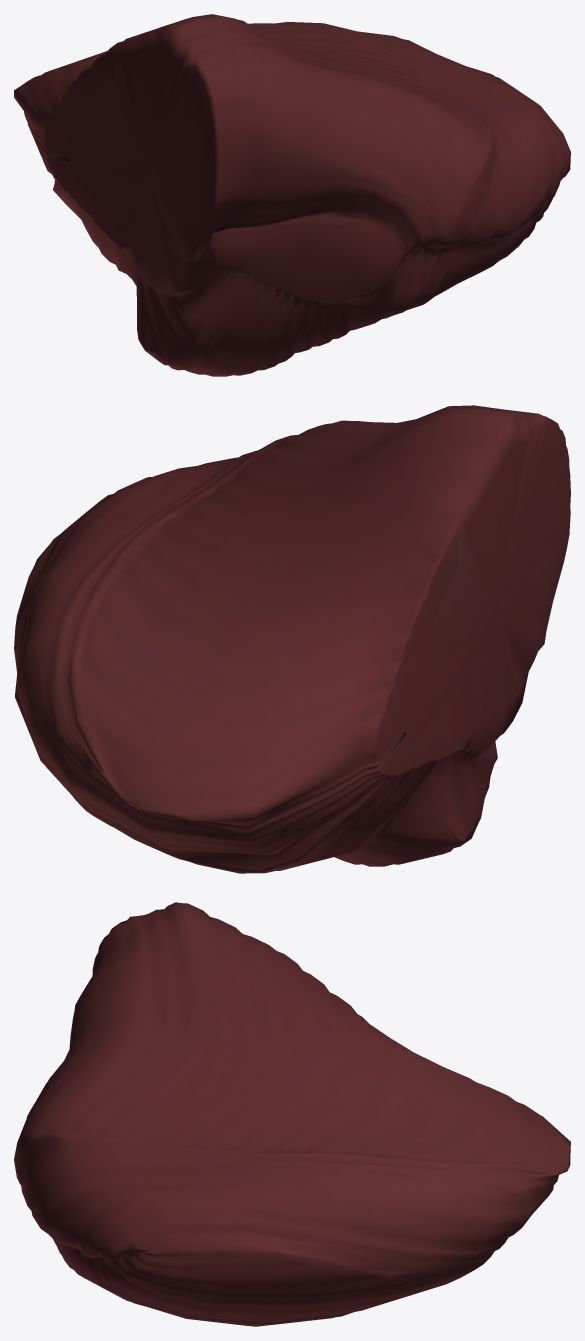
Rendered from Nervous_Full_Cerebellum.gltf.
The picture shows the model from 3 angles, top to bottom: view 1: azimuth 30°, elevation 25°; view 2: azimuth 150°, elevation 25°; view 3: azimuth 270°, elevation 25°; orthographic projection. The views are drawn at different scales.
Visible parts, largest first — view 1: Nervous_Full_Cerebellum_2; view 2: Nervous_Full_Cerebellum_2; view 3: Nervous_Full_Cerebellum_2.
Boxes of the visible parts, x1,y1,x2,y2 form: Nervous_Full_Cerebellum_2: (14,14,570,376); Nervous_Full_Cerebellum_2: (14,405,570,873); Nervous_Full_Cerebellum_2: (14,902,570,1326).
Size of the model in its own units: 4.45 by 4.26 by 5.89.
1 material, 1 textured.
